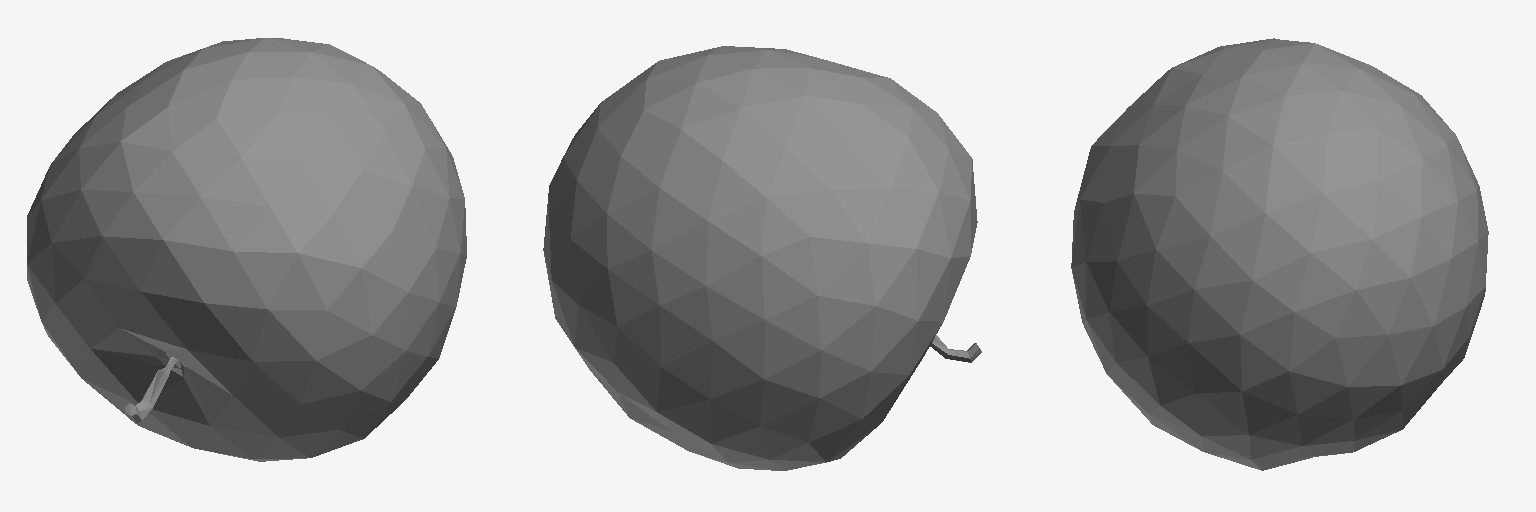
The model's file is ave.obj.
The picture shows the model from 3 angles: view 1: azimuth 30°, elevation 25°; view 2: azimuth 150°, elevation 25°; view 3: azimuth 270°, elevation 25°; orthographic projection.
Parts seen in each view (by area): view 1: manzana; view 2: manzana; view 3: manzana.
Part boxes in pixels (bbox=[...]): manzana: bbox=[27, 38, 466, 461]; manzana: bbox=[543, 46, 981, 470]; manzana: bbox=[1071, 38, 1488, 470].
Size of the model in its own units: 4.98 by 4.79 by 4.65.